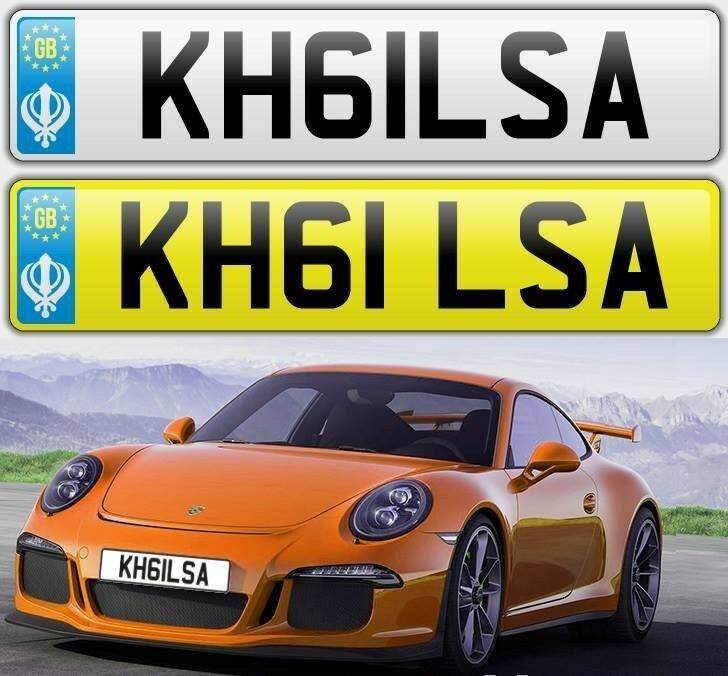number_plate: (5, 176, 723, 336), (7, 5, 720, 164), (98, 542, 237, 595)
